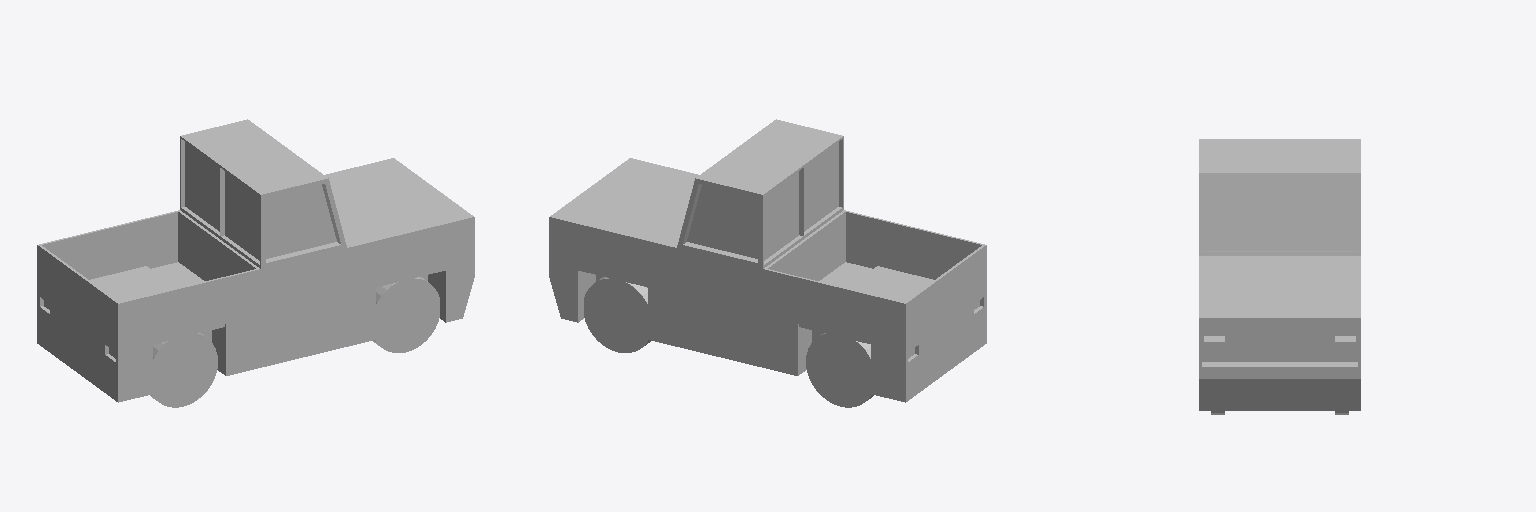
The model's file is car2.obj.
The picture shows the model from 3 angles: view 1: azimuth 30°, elevation 25°; view 2: azimuth 150°, elevation 25°; view 3: azimuth 270°, elevation 25°; orthographic projection.
Visible parts, largest first — view 1: Cube; view 2: Cube; view 3: Cube.
Boxes of the visible parts, x1=… form: Cube: x1=37, y1=119, x2=474, y2=407; Cube: x1=549, y1=119, x2=986, y2=407; Cube: x1=1199, y1=139, x2=1360, y2=414.
Size of the model in its own units: 5.1 by 2.71 by 2.